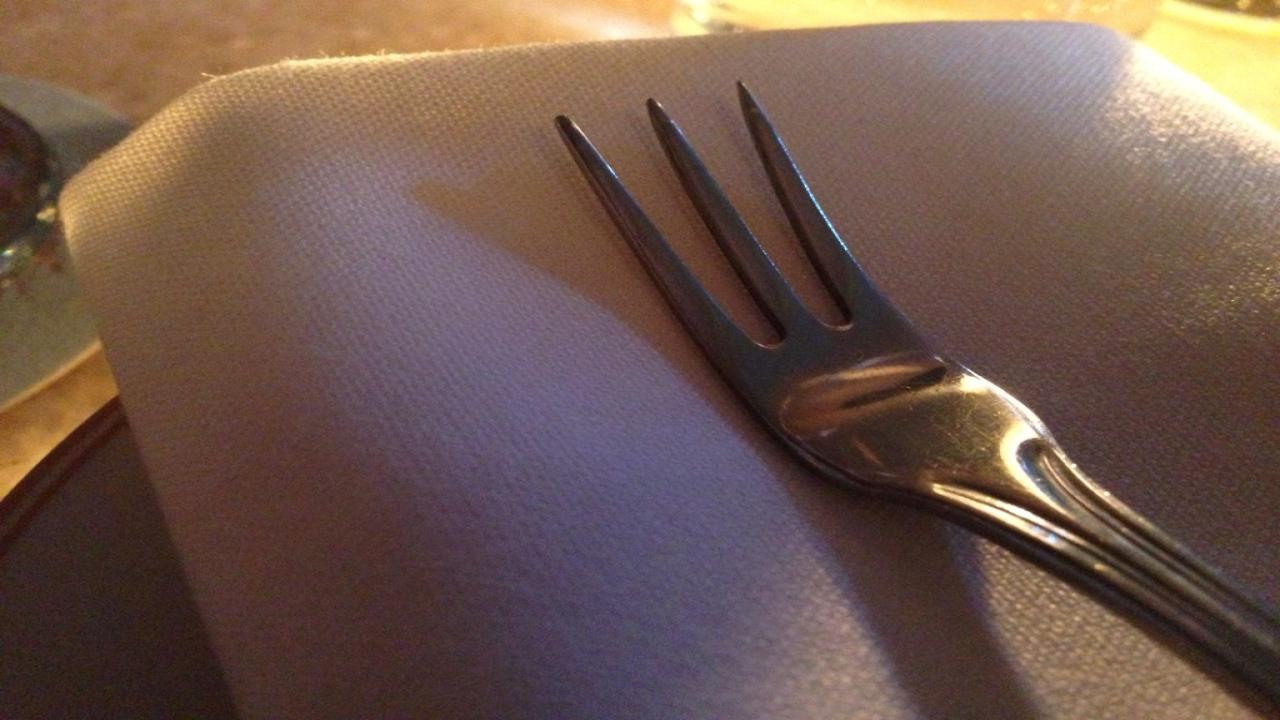fork: (544, 76, 1280, 720)
